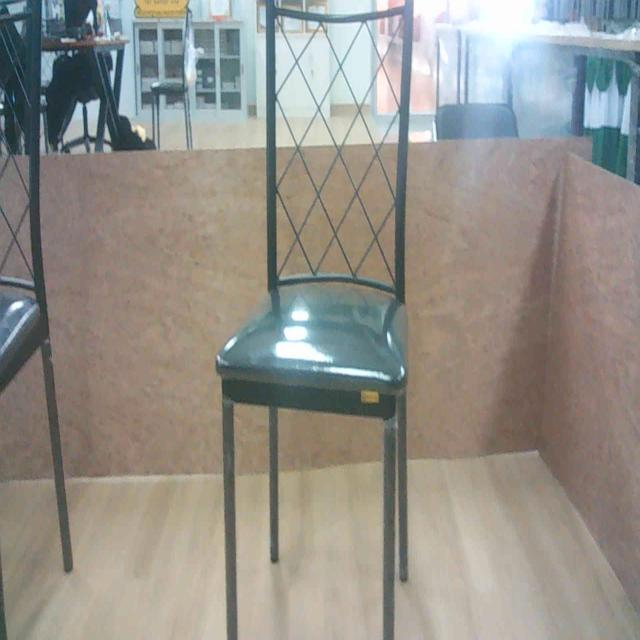emtpy: (216, 0, 413, 640)
